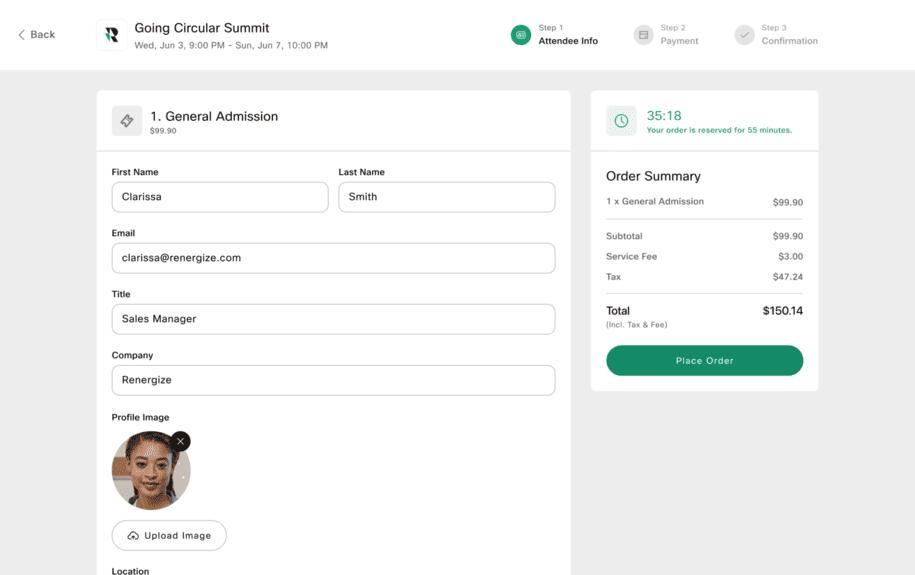button: (609, 344, 806, 378), (115, 521, 228, 551)
input: (113, 242, 558, 278), (112, 302, 556, 338), (112, 365, 554, 399), (340, 181, 557, 215), (113, 180, 329, 214)
label: (110, 163, 163, 179), (338, 164, 388, 180), (108, 348, 161, 363), (109, 224, 142, 240), (108, 288, 134, 300)
